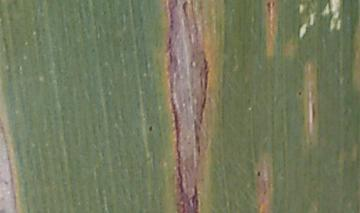tarspot: (293, 86, 306, 101), (252, 168, 263, 180), (145, 123, 156, 134)
